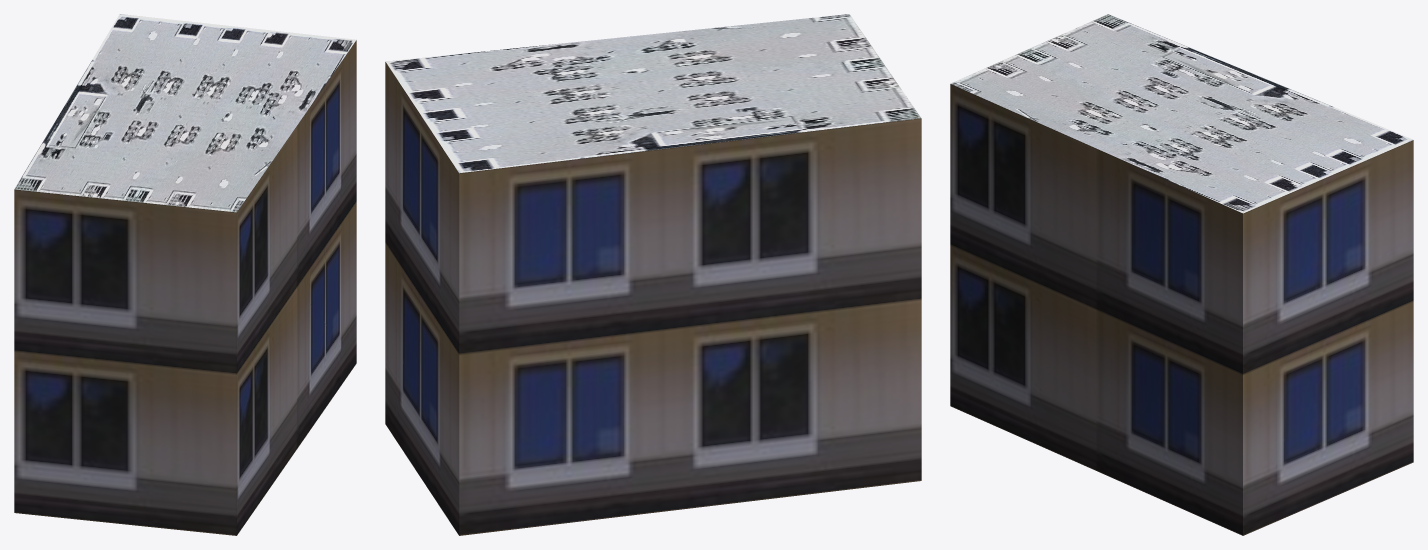
Rendered from ResTex__4965.fbx.
The picture shows the model from 3 angles, left to right: view 1: azimuth 30°, elevation 25°; view 2: azimuth 150°, elevation 25°; view 3: azimuth 270°, elevation 25°; orthographic projection. The views are drawn at different scales.
Parts seen in each view (by area): view 1: CityEngineMaterial_5_m, CityEngineMaterial_m; view 2: CityEngineMaterial_5_m, CityEngineMaterial_m; view 3: CityEngineMaterial_5_m, CityEngineMaterial_m.
Part boxes in pixels (box(x1,y1,x2,y2)): CityEngineMaterial_5_m: box(14, 40, 356, 535); CityEngineMaterial_m: box(14, 14, 356, 212); CityEngineMaterial_5_m: box(385, 62, 921, 535); CityEngineMaterial_m: box(386, 14, 920, 173); CityEngineMaterial_5_m: box(950, 84, 1413, 535); CityEngineMaterial_m: box(950, 14, 1412, 213).
Bounding box in the file's own units: 7.96 × 6 × 7.82.
2 materials, 2 textured.
